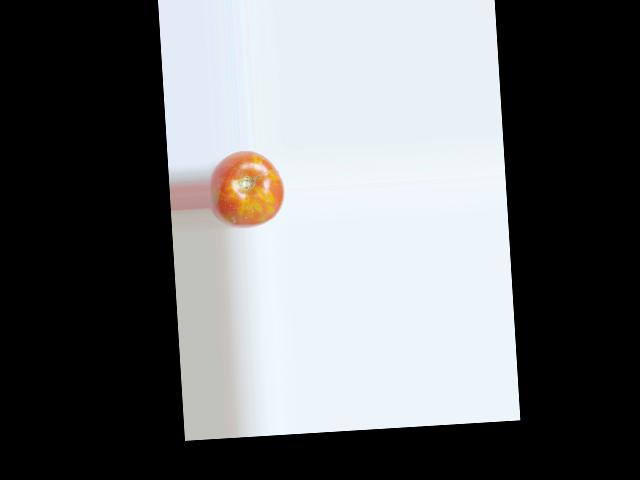tomato: (207, 148, 286, 229)
